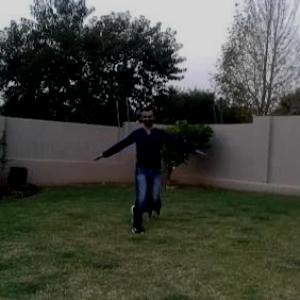land: (102, 113, 204, 232)
